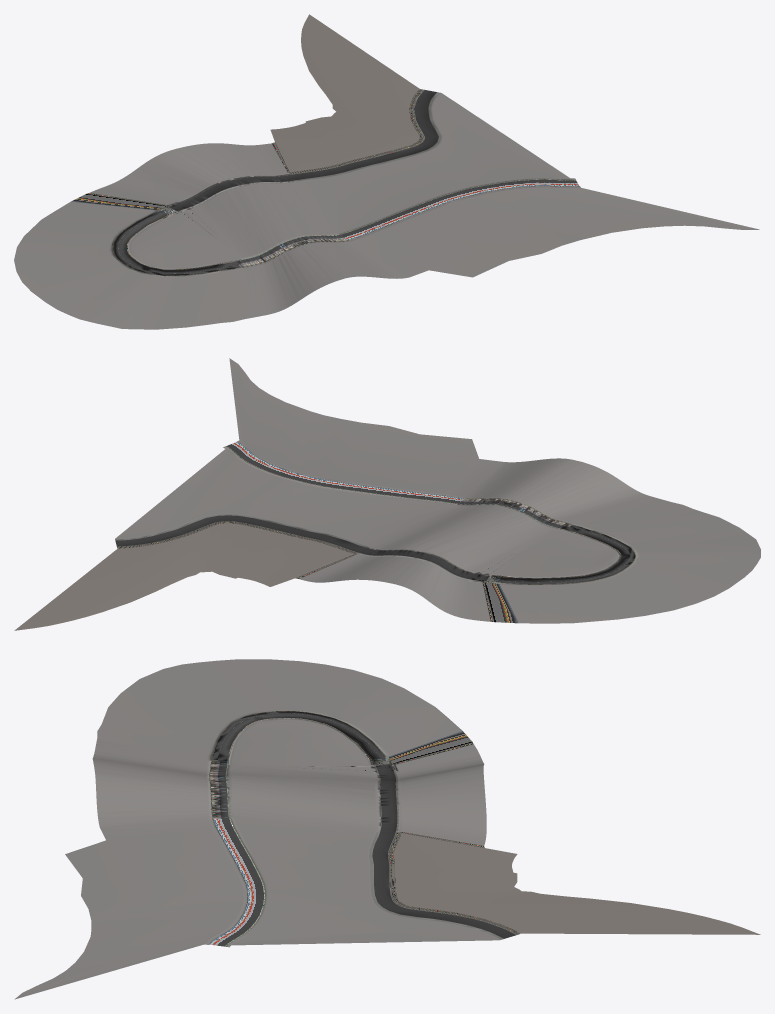
Rendered from event3_char2_v0_ground.glb.
3 renders of one model, top to bottom at view 1: azimuth 30°, elevation 25°; view 2: azimuth 150°, elevation 25°; view 3: azimuth 270°, elevation 25°, orthographic. The views are drawn at different scales.
Parts seen in each view (by area): view 1: ground; view 2: ground; view 3: ground.
Part boxes in pixels (x1=…): ground: x1=14, y1=14, x2=759, y2=329; ground: x1=14, y1=358, x2=760, y2=630; ground: x1=14, y1=659, x2=760, y2=999.
Bounding box in the file's own units: 726 × 21.75 × 682.
Materials: 1 (1 with a texture image).
